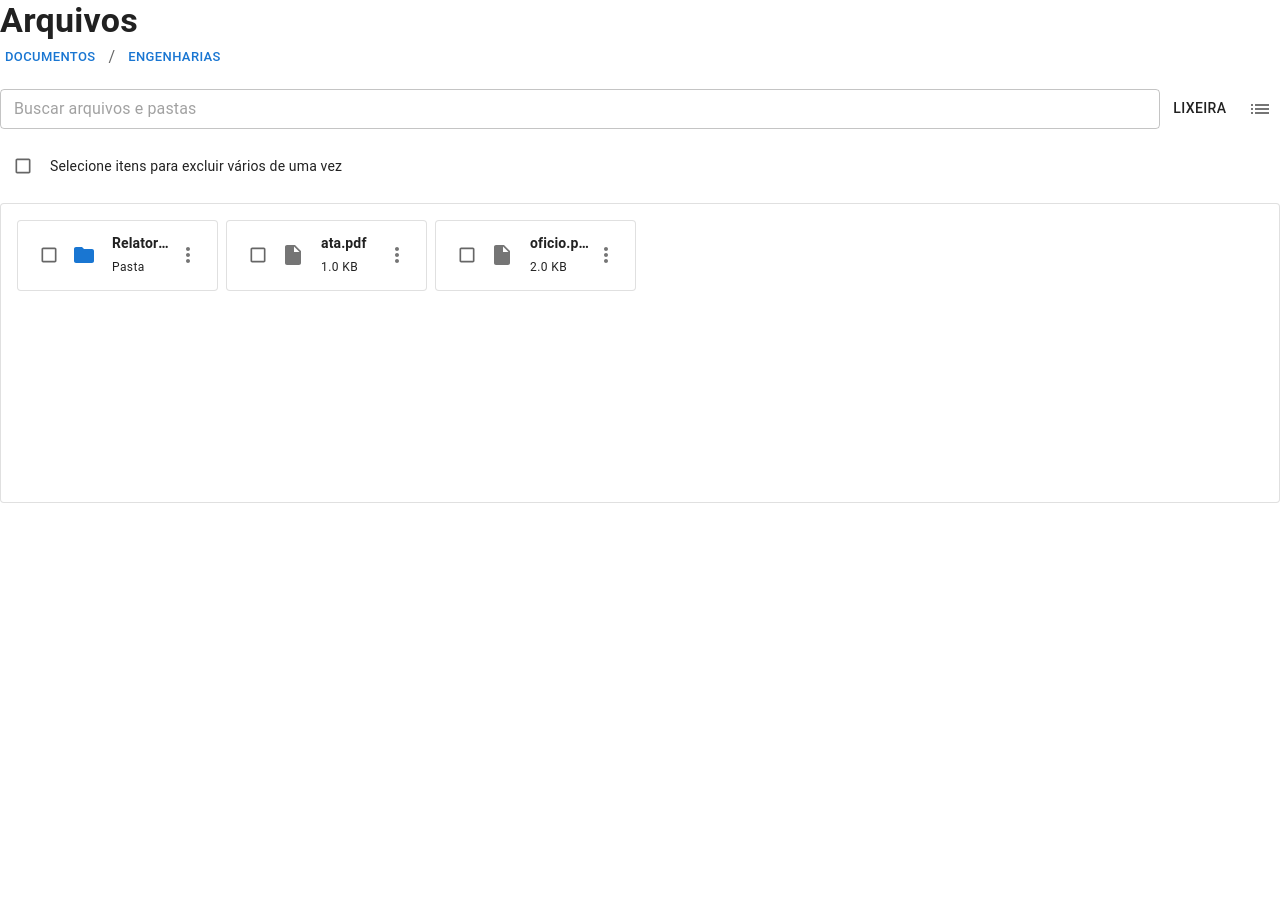
Test: FilesPage exclusao em lote › relata falha parcial sem interromper os outros itens
Step 1. Click the checkbox named "Selecionar ata.pdf" → x=258, y=255, box [248,245,268,265]
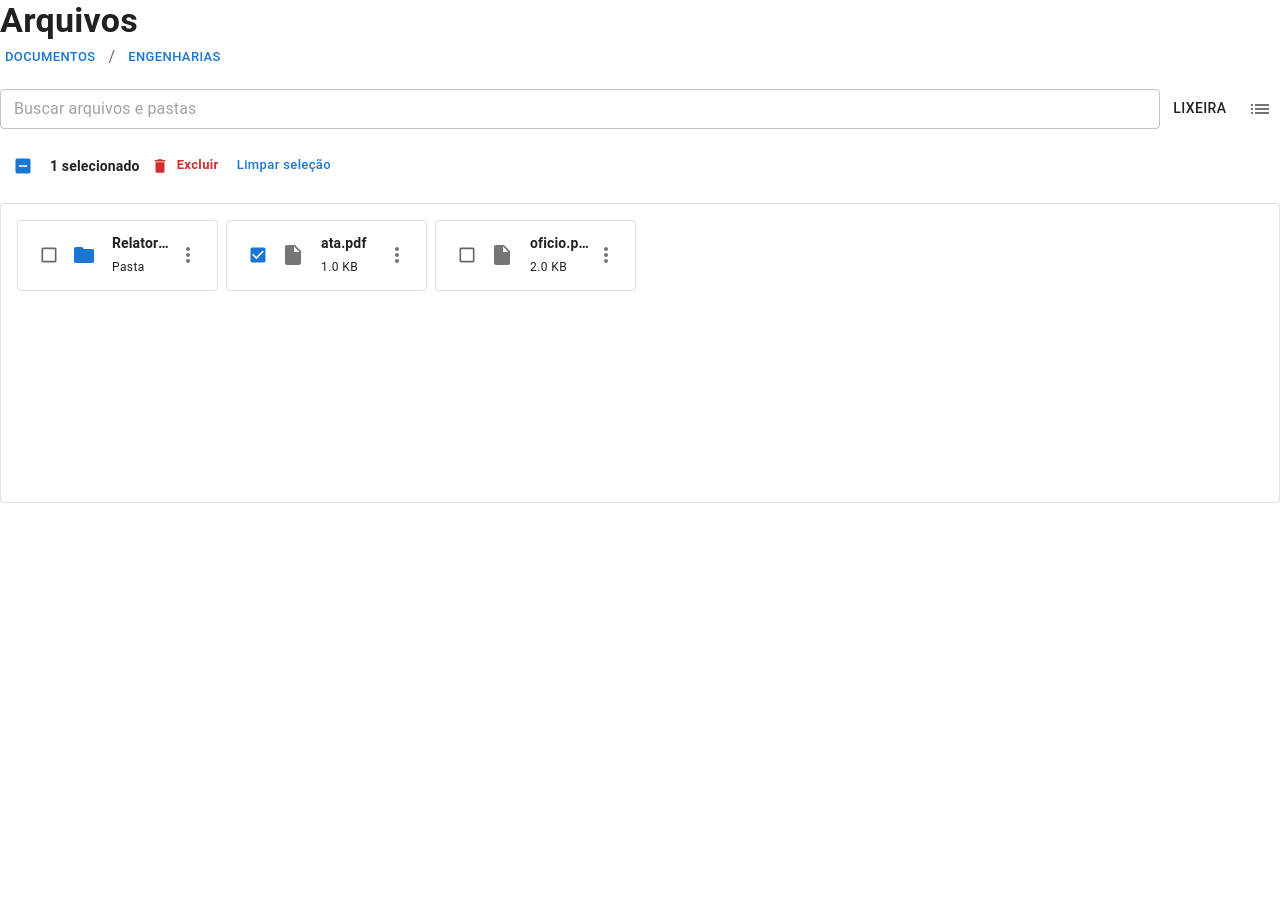
Step 2. Click the checkbox named "Selecionar oficio.pdf" → x=467, y=255, box [457,245,477,265]
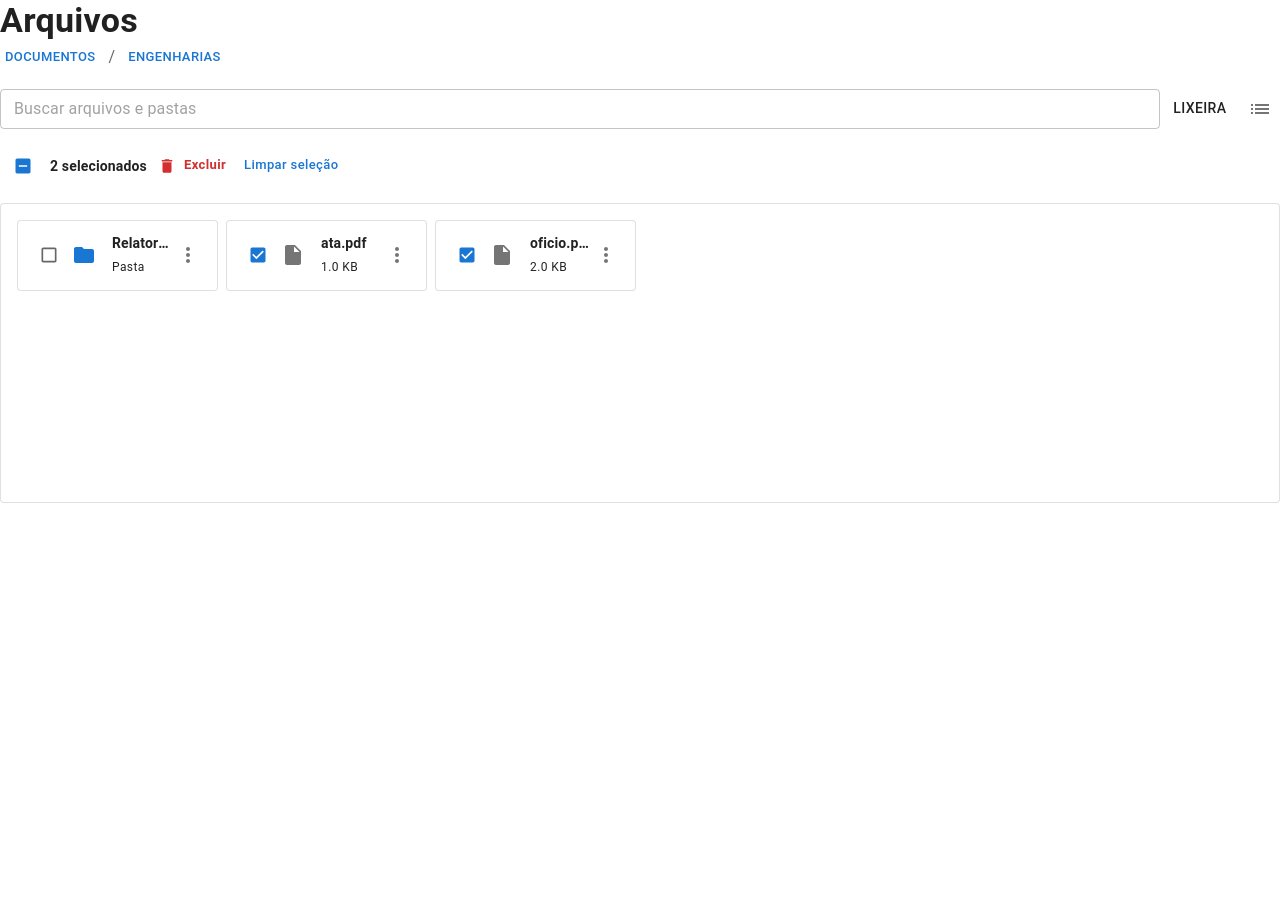
Step 3. Click the button "Excluir" → x=193, y=166, box [155,150,231,181]
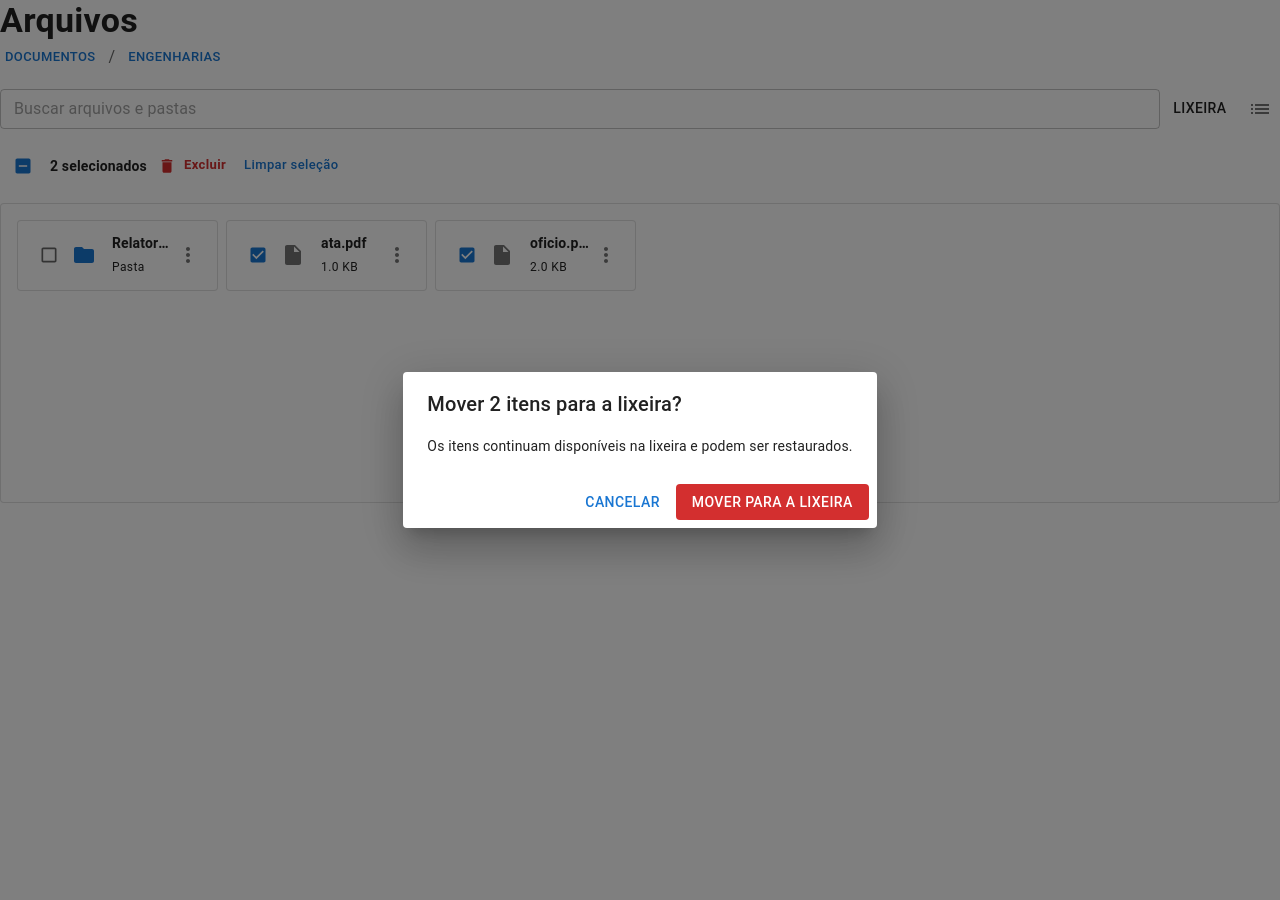
Step 4. Click the button "Mover para a lixeira" → x=772, y=502, box [676,484,869,520]
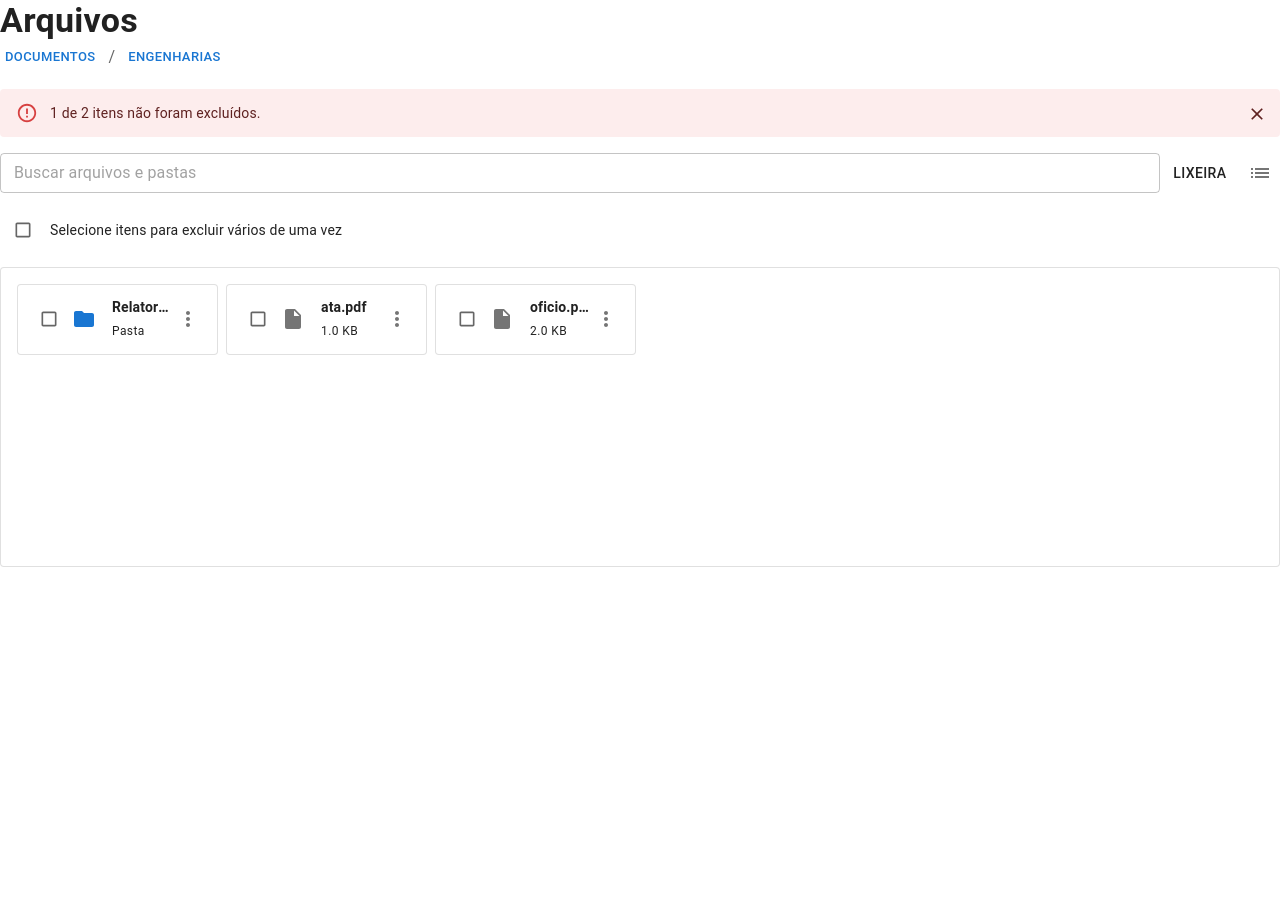
Expected: the text "1 de 2 itens não foram excluídos." is shown, [50,105,261,121]
